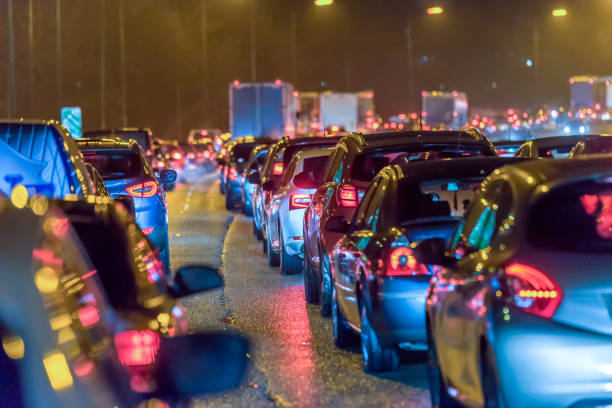car: (435, 161, 612, 408), (305, 132, 492, 308), (334, 172, 489, 364), (82, 139, 180, 274), (268, 151, 350, 276), (223, 145, 256, 202), (166, 137, 198, 178)
truck: (228, 82, 296, 157), (320, 91, 374, 144), (420, 87, 467, 135), (568, 77, 606, 123)
